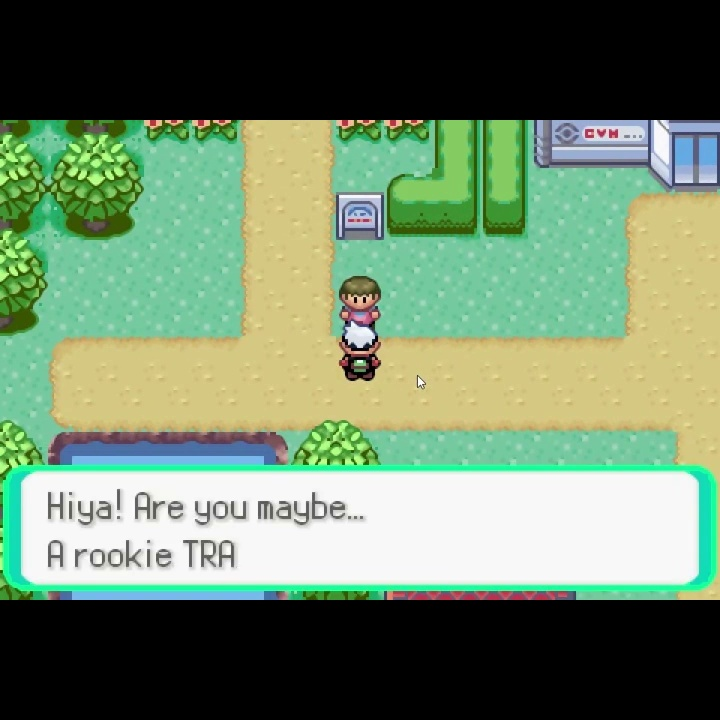gym: (532, 120, 720, 194)
npc: (335, 325, 383, 383), (337, 275, 384, 325)
wall: (49, 135, 145, 242), (1, 229, 49, 339), (287, 419, 384, 465), (1, 134, 48, 228), (1, 419, 46, 466), (49, 121, 144, 143), (1, 121, 49, 143)
